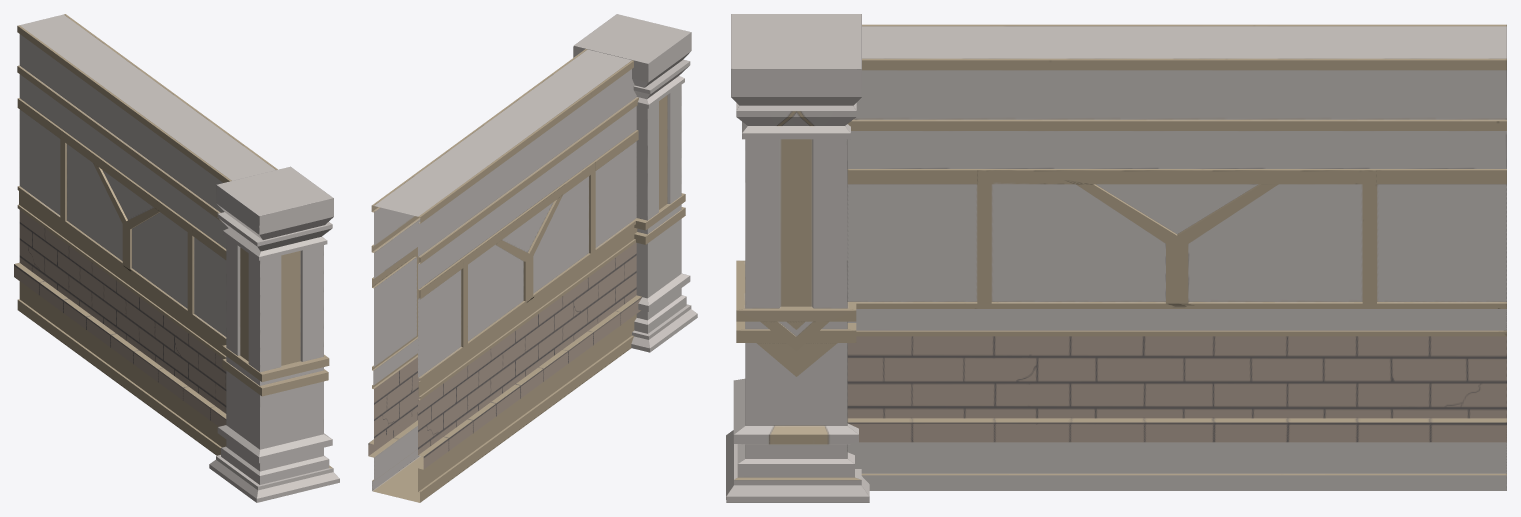
Rendered from Wall.fbx.
3 views of the same model, side by side, from view 1: azimuth 30°, elevation 25°; view 2: azimuth 150°, elevation 25°; view 3: azimuth 270°, elevation 25° (orthographic). The views are drawn at different scales.
Parts seen in each view (by area): view 1: Cube, tiang kecil.kiri.001; view 2: Cube, tiang kecil.kiri.001; view 3: Cube, tiang kecil.kiri.001.
Boxes of the visible parts, bbox=[...] form: Cube: bbox=[14, 14, 277, 455]; tiang kecil.kiri.001: bbox=[209, 166, 339, 502]; Cube: bbox=[368, 49, 641, 502]; tiang kecil.kiri.001: bbox=[573, 14, 697, 352]; Cube: bbox=[847, 24, 1506, 490]; tiang kecil.kiri.001: bbox=[726, 14, 869, 502].
Bounding box in the file's own units: 110 × 360 × 591.
Materials: 1 (1 with a texture image).
